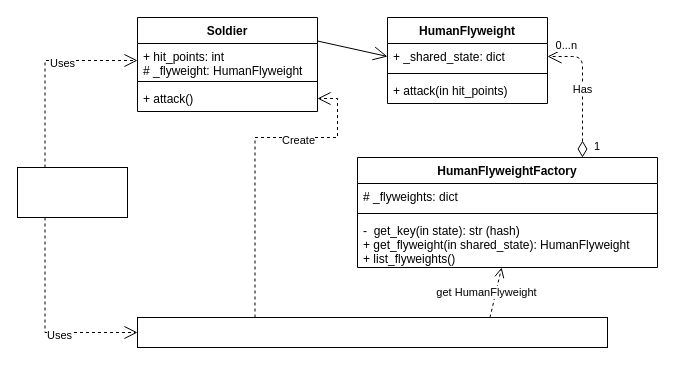
Some shapes in this 675 by 365 pixel diagram are drawn without their labels. The shapes that lost their labels are listed below. From the top down, each one's centre as x and y in pixels, then its label:
At (72,192): "Client".
At (372,332): "def create_soldier(fly_factory, shared_state, hit_points))".
